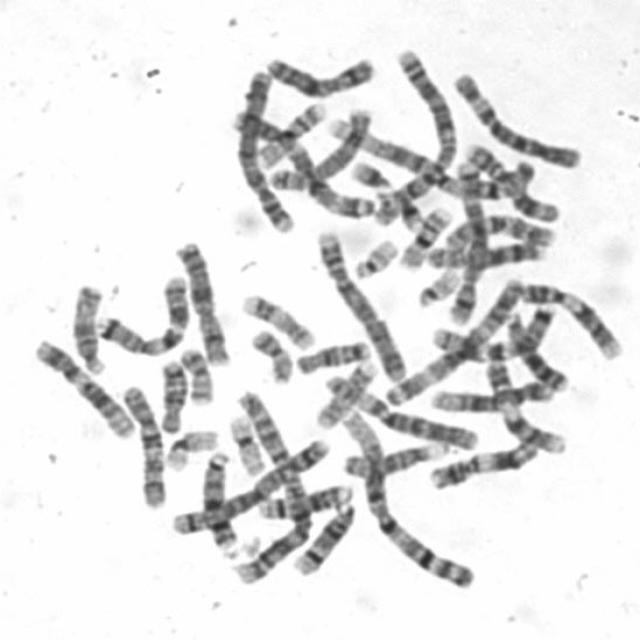A1: (338, 402, 479, 592), (319, 111, 541, 200)
A2: (228, 385, 318, 586), (372, 42, 459, 228)
A3: (382, 273, 527, 406), (224, 100, 376, 218)
B4: (313, 223, 412, 384), (232, 64, 297, 236)
B5: (164, 431, 334, 537), (440, 153, 490, 326)
C10: (115, 378, 169, 511), (436, 209, 561, 252)
C11: (462, 137, 562, 224), (422, 433, 542, 492)
C12: (28, 333, 138, 440), (428, 374, 557, 414)
C6: (445, 64, 584, 170), (319, 367, 482, 451)
C7: (94, 269, 192, 357), (427, 303, 556, 362)
C8: (265, 104, 374, 193), (418, 233, 546, 271)
C9: (513, 276, 625, 362), (479, 354, 571, 456)
D13: (500, 304, 572, 393), (198, 444, 243, 552)
D14: (289, 496, 360, 577), (254, 478, 358, 520)
D15: (337, 434, 450, 480), (66, 277, 108, 377)
E16: (253, 95, 333, 170), (395, 200, 455, 272)
E17: (235, 286, 318, 352), (310, 355, 380, 430)
E18: (290, 334, 372, 376), (154, 354, 189, 434)
F19: (224, 407, 269, 476), (161, 423, 221, 473)
F20: (245, 322, 297, 384), (175, 342, 217, 407)
G21: (345, 154, 394, 194), (384, 189, 426, 232)
G22: (347, 232, 400, 281), (411, 262, 463, 308)
X: (169, 233, 236, 367), (259, 49, 379, 100)
